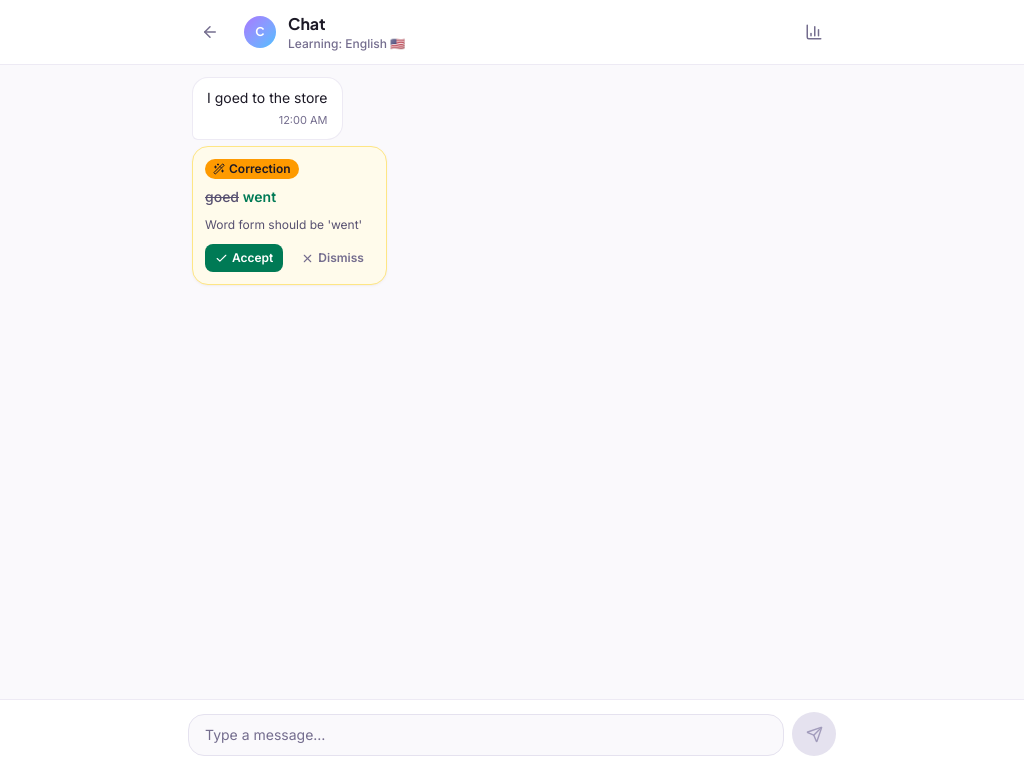
Scenario: Aceitar/Rejeitar correção (Fatia 4) › click em "Accept" marca accepted_by_user no banco, risca a mensagem original e mostra a versão corrigida completa
Expected: the text "Correction" is shown, left=205, top=158, right=299, bottom=178
Step 1. Click the button "Accept" → (244, 258), box left=205, top=244, right=283, bottom=272
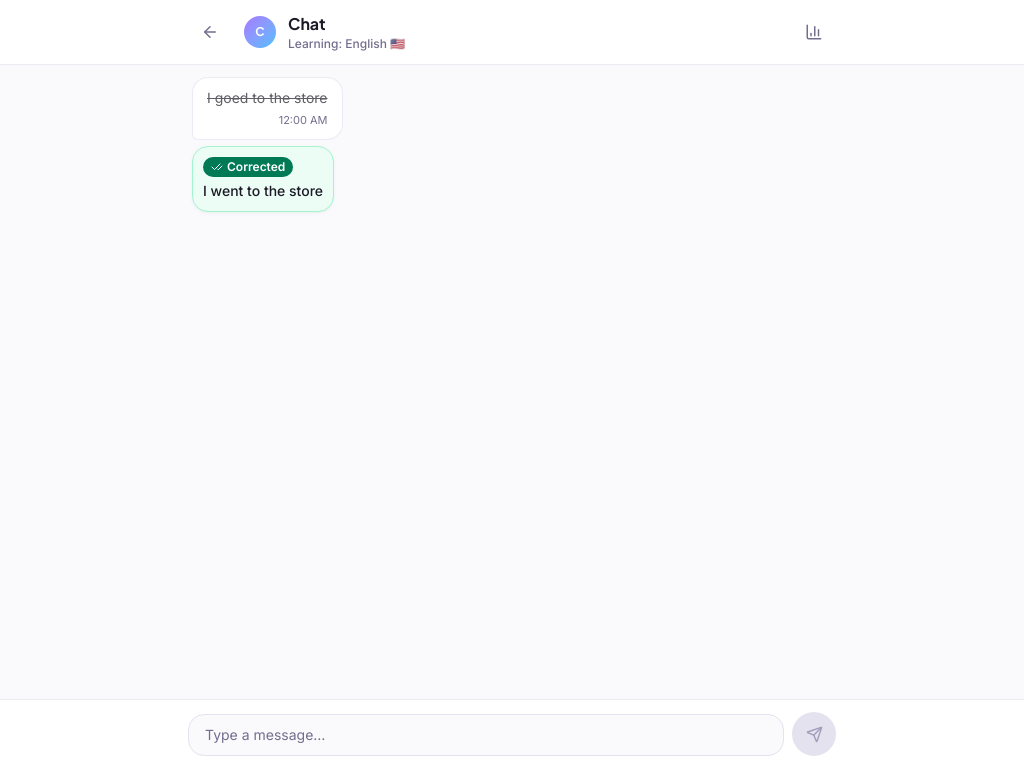
Now the text "Correction" is gone
Now the text "Corrected" is shown, box left=203, top=156, right=293, bottom=176
Now the text "I went to the store" is shown, box left=203, top=180, right=323, bottom=200
